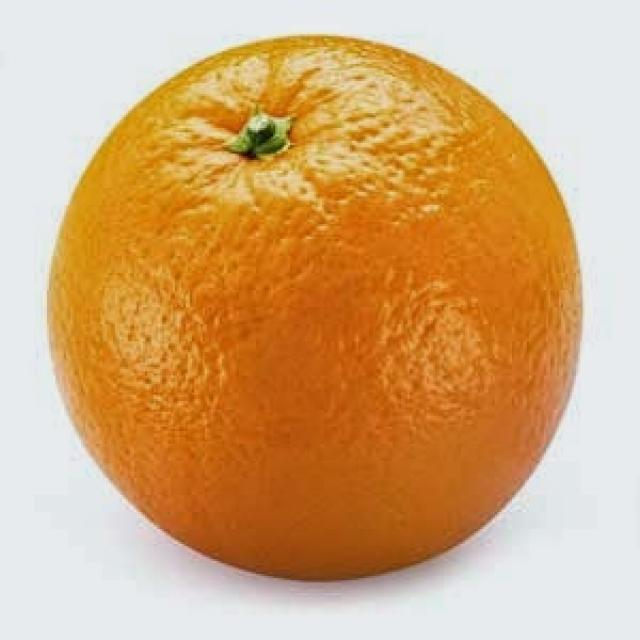Orange: (39, 31, 584, 583)
